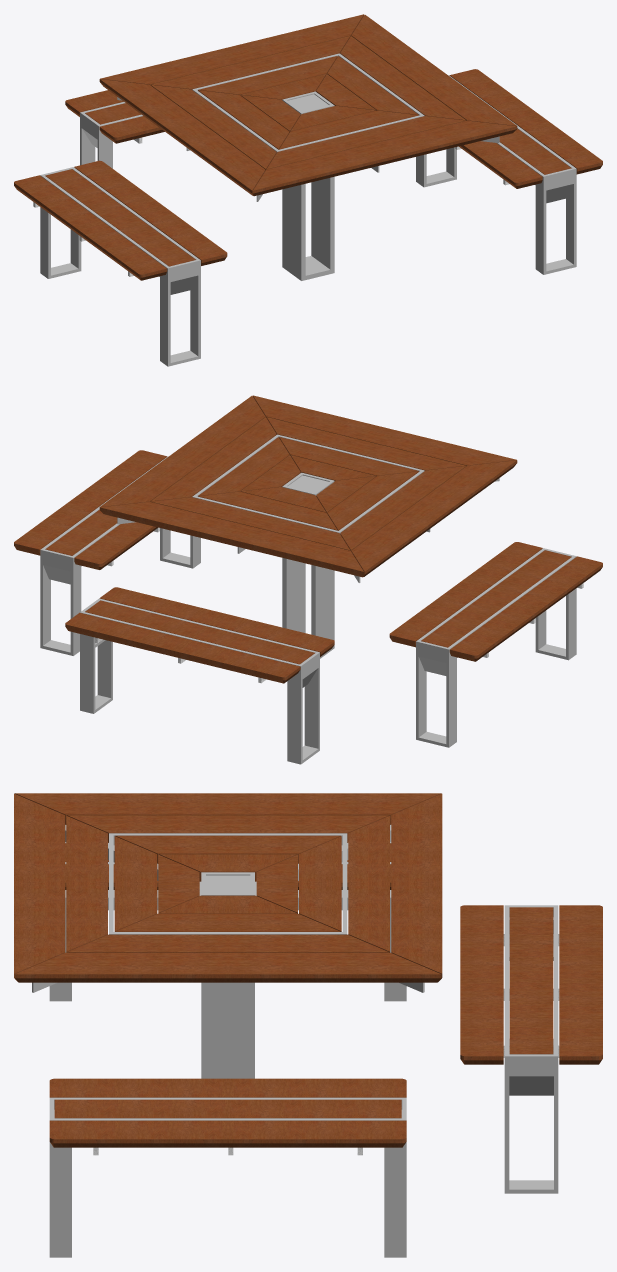
File: outdoor_table.dae
The picture shows the model from 3 angles, top to bottom: view 1: azimuth 30°, elevation 25°; view 2: azimuth 150°, elevation 25°; view 3: azimuth 270°, elevation 25°; orthographic projection. The views are drawn at different scales.
Visible parts, largest first — view 1: Component_82 (×5), Component_73 (×5), Component_90 (×5), Component_91 (×4), Component_83 (×4), Component_81 (×4), Component_85 (×3), Component_67, Component_79 (×4), Component_76 (×4), Component_87 (×3), Component_93 (×2) (+3 smaller); view 2: Component_91 (×6), Component_90 (×5), Component_82 (×5), Component_73 (×5), Component_87 (×3), Component_81 (×4), Component_83 (×4), Component_84 (×3), Component_85 (×3), Component_79 (×4), Component_76 (×4), Component_93 (×2) (+4 smaller); view 3: Component_73 (×5), Component_82 (×5), Component_91 (×5), Component_90 (×5), Component_83 (×4), Component_81 (×4), Component_76 (×4), Component_79 (×4), Component_93 (×2), Component_84 (×2), Component_85 (×3), Component_88 (×4) (+7 smaller).
Boxes of the visible parts, bbox=[...] form: Component_82 (×5): bbox=[100, 14, 516, 190]; Component_73 (×5): bbox=[100, 14, 516, 196]; Component_90 (×5): bbox=[65, 69, 542, 277]; Component_91 (×4): bbox=[14, 115, 602, 264]; Component_83 (×4): bbox=[151, 36, 465, 168]; Component_81 (×4): bbox=[151, 36, 465, 168]; Component_85 (×3): bbox=[160, 183, 576, 366]; Component_67: bbox=[282, 187, 334, 280]; Component_79 (×4): bbox=[198, 56, 418, 148]; Component_76 (×4): bbox=[198, 56, 418, 148]; Component_87 (×3): bbox=[40, 127, 456, 278]; Component_93 (×2): bbox=[107, 128, 571, 266]; Component_91 (×6): bbox=[65, 450, 542, 658]; Component_90 (×5): bbox=[14, 496, 602, 680]; Component_82 (×5): bbox=[100, 395, 516, 577]; Component_73 (×5): bbox=[100, 395, 516, 571]; Component_87 (×3): bbox=[40, 564, 456, 764]; Component_81 (×4): bbox=[152, 417, 465, 549]; Component_83 (×4): bbox=[151, 417, 465, 549]; Component_84 (×3): bbox=[45, 510, 509, 664]; Component_85 (×3): bbox=[80, 528, 576, 713]; Component_79 (×4): bbox=[198, 437, 418, 530]; Component_76 (×4): bbox=[199, 437, 417, 529]; Component_93 (×2): bbox=[85, 550, 571, 637]; Component_73 (×5): bbox=[14, 793, 442, 982]; Component_82 (×5): bbox=[14, 793, 442, 982]; Component_91 (×5): bbox=[49, 905, 602, 1147]; Component_90 (×5): bbox=[49, 905, 602, 1147]; Component_83 (×4): bbox=[66, 815, 389, 951]; Component_81 (×4): bbox=[66, 815, 389, 951]; Component_76 (×4): bbox=[114, 835, 341, 931]; Component_79 (×4): bbox=[114, 835, 341, 931]; Component_93 (×2): bbox=[54, 980, 553, 1118]; Component_84 (×2): bbox=[227, 907, 553, 1118]; Component_85 (×3): bbox=[49, 1054, 558, 1257]; Component_88 (×4): bbox=[49, 905, 558, 1120].
Bounding box in the file's own units: 84 × 66 × 29.
3 materials, 1 textured.
